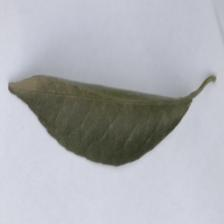healthy: (9, 74, 218, 169)
